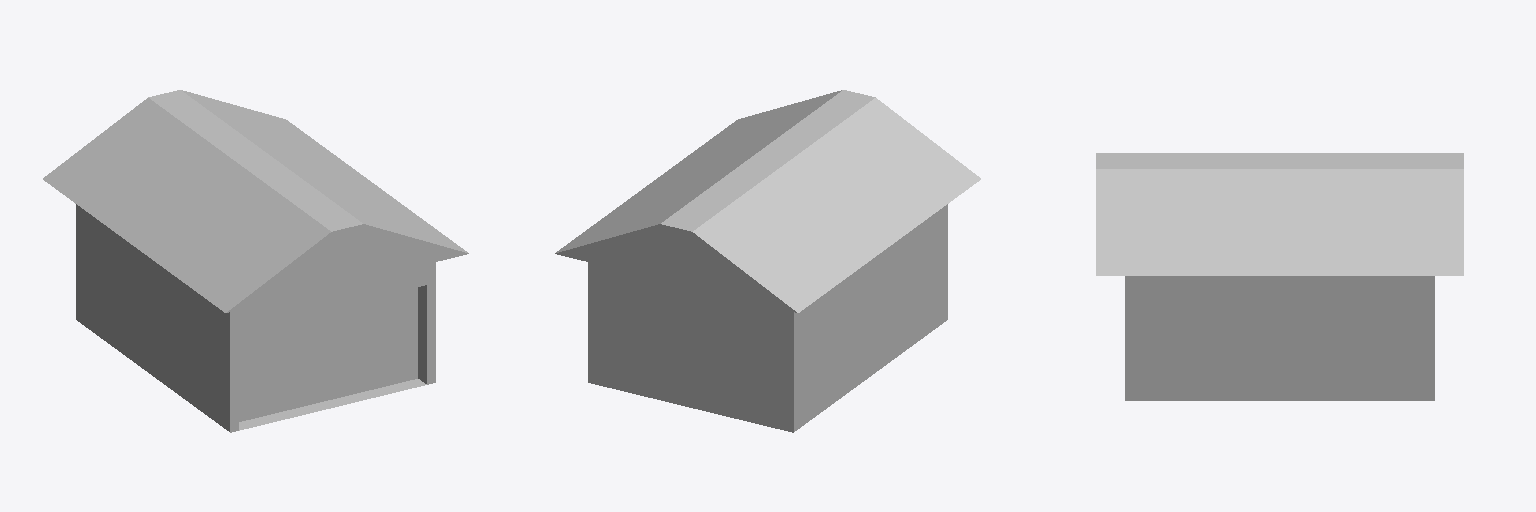
Rendered from warehouse_small.obj.
The picture shows the model from 3 angles: view 1: azimuth 30°, elevation 25°; view 2: azimuth 150°, elevation 25°; view 3: azimuth 270°, elevation 25°; orthographic projection.
Visible parts, largest first — view 1: Cube.001; view 2: Cube.001; view 3: Cube.001.
Boxes of the visible parts, x1=… form: Cube.001: x1=43, y1=90, x2=468, y2=432; Cube.001: x1=555, y1=90, x2=980, y2=432; Cube.001: x1=1096, y1=153, x2=1463, y2=400.
Size of the model in its own units: 2.38 by 1.77 by 3.09.